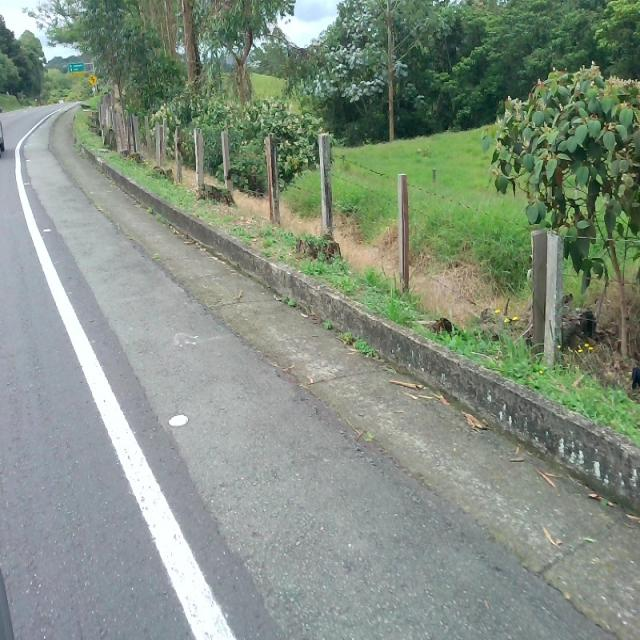DITCH: (23, 98, 638, 638)
